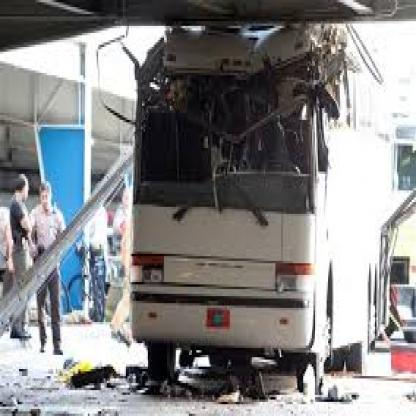accident: (31, 20, 368, 384)
